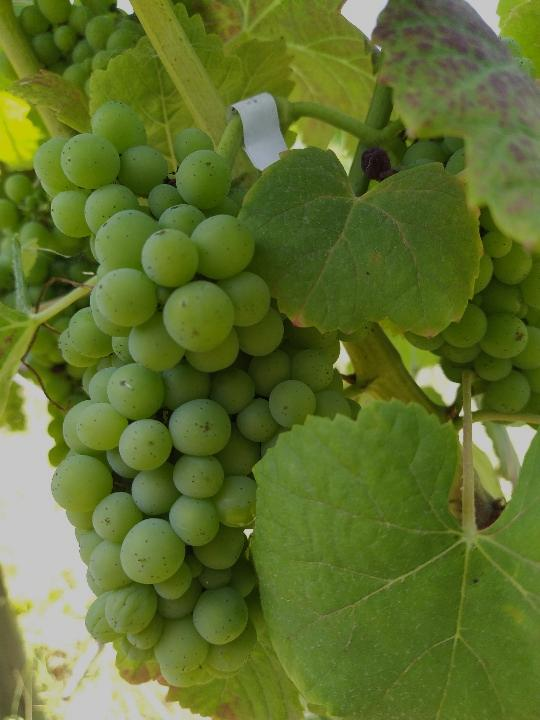grape: (31, 98, 371, 695)
